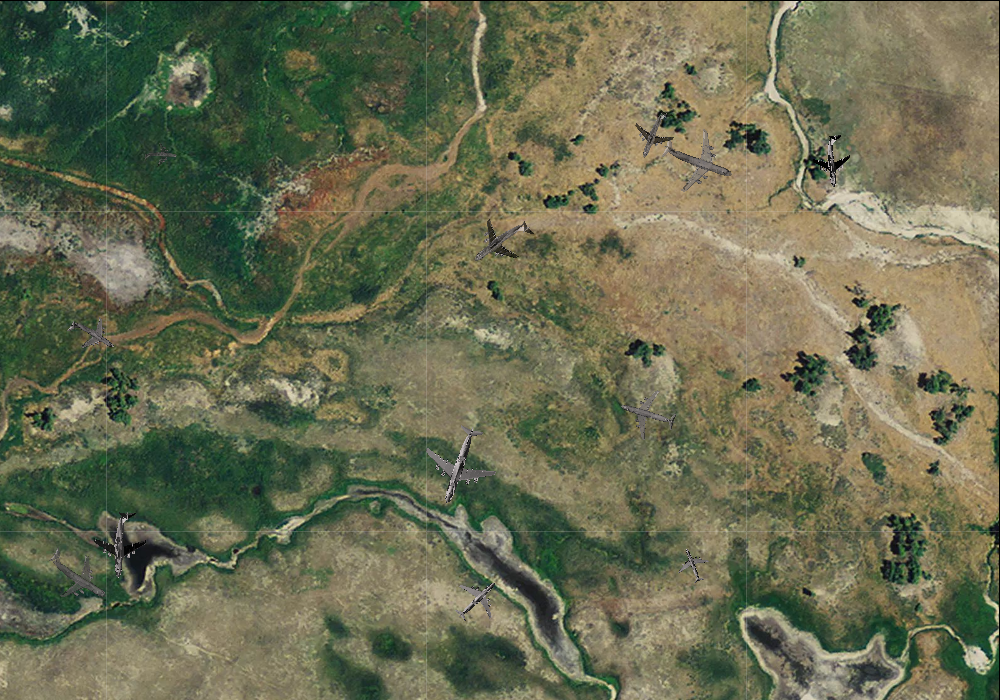plane: (411, 415, 507, 514), (650, 114, 745, 206), (33, 531, 123, 619), (458, 199, 545, 285), (613, 381, 683, 447), (443, 566, 510, 633), (89, 510, 153, 579), (623, 101, 686, 166), (59, 304, 123, 367), (808, 131, 859, 189), (671, 543, 715, 588), (142, 140, 177, 171)
